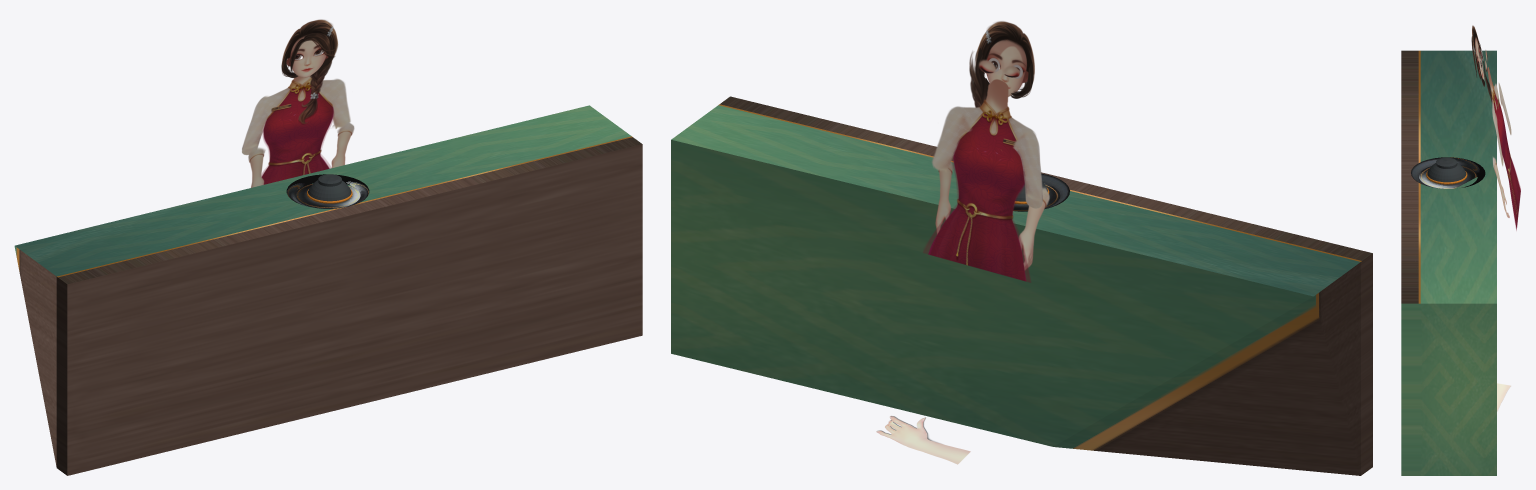
File: girlAnimation3.glb
3 views of the same model, side by side, from view 1: azimuth 30°, elevation 25°; view 2: azimuth 150°, elevation 25°; view 3: azimuth 270°, elevation 25° (orthographic). The views are drawn at different scales.
Parts seen in each view (by area): view 1: Cube, body, head, dish, bowl, left upper hand, right hair group; view 2: Cube, body, head, dish hand, left upper hand, right upper hand, left lower hand, dish, right lower hand; view 3: Cube, body, dish, bowl, head, right lower hand, dish hand, left upper hand, right upper hand.
Boxes of the visible parts, x1,y1,x2,y2 form: Cube: [14, 105, 642, 475]; body: [261, 75, 344, 184]; head: [282, 19, 337, 77]; dish: [286, 174, 369, 208]; bowl: [307, 174, 352, 203]; left upper hand: [242, 96, 268, 155]; right hair group: [298, 59, 331, 124]; Cube: [671, 96, 1372, 475]; body: [923, 79, 1035, 282]; head: [976, 21, 1034, 96]; dish hand: [876, 416, 970, 464]; left upper hand: [1013, 130, 1042, 208]; right upper hand: [931, 106, 971, 172]; left lower hand: [1019, 187, 1049, 270]; dish: [1013, 173, 1069, 211]; right lower hand: [935, 162, 953, 234]; Cube: [1401, 50, 1496, 475]; body: [1487, 67, 1520, 230]; dish: [1411, 157, 1485, 188]; bowl: [1426, 157, 1467, 184]; head: [1472, 25, 1484, 80]; right lower hand: [1492, 157, 1509, 217]; dish hand: [1497, 383, 1510, 411]; left upper hand: [1498, 83, 1511, 134]; right upper hand: [1493, 109, 1503, 166].
Size of the model in its own units: 6.28 by 4.13 by 1.26.
Materials: 19 (16 with a texture image).
